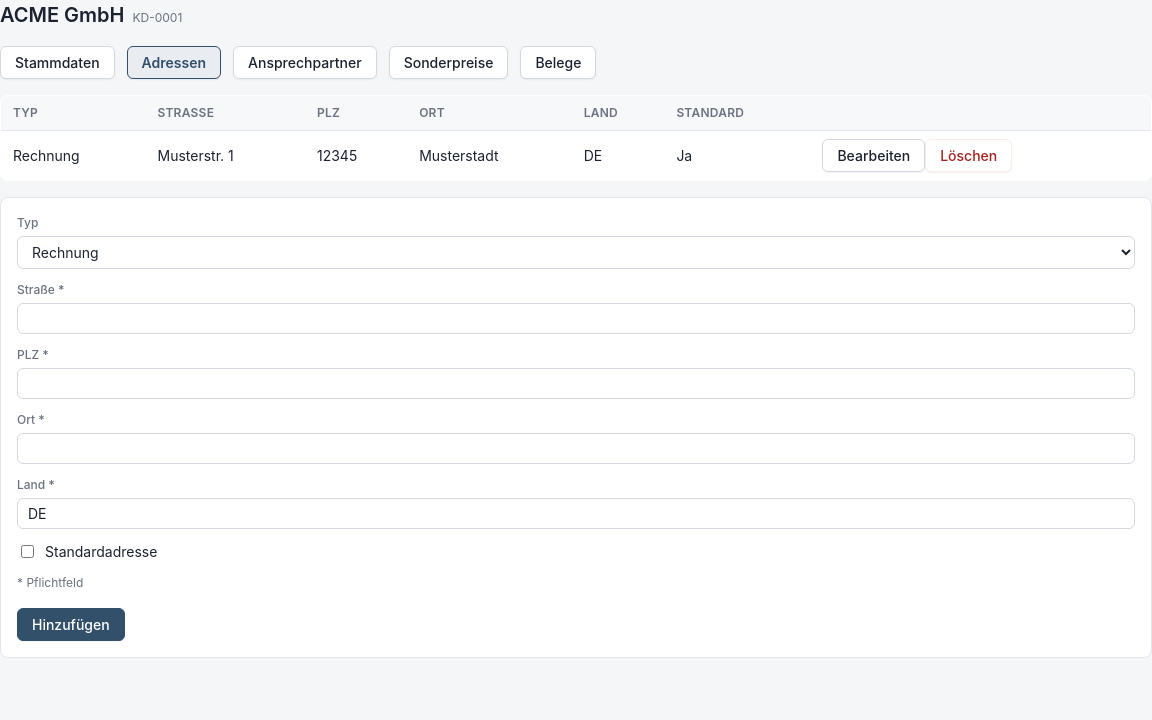
it: KundeDetail › zeigt nach dem Anlegen einer neuen Adresse einen Erfolgs-Hinweis
expect the button "Adressen" is shown: met, box [127, 46, 221, 79]
In the field labelled "Straße": {"x": 576, "y": 318} [17, 303, 1135, 334], type "Neue Str. 5"
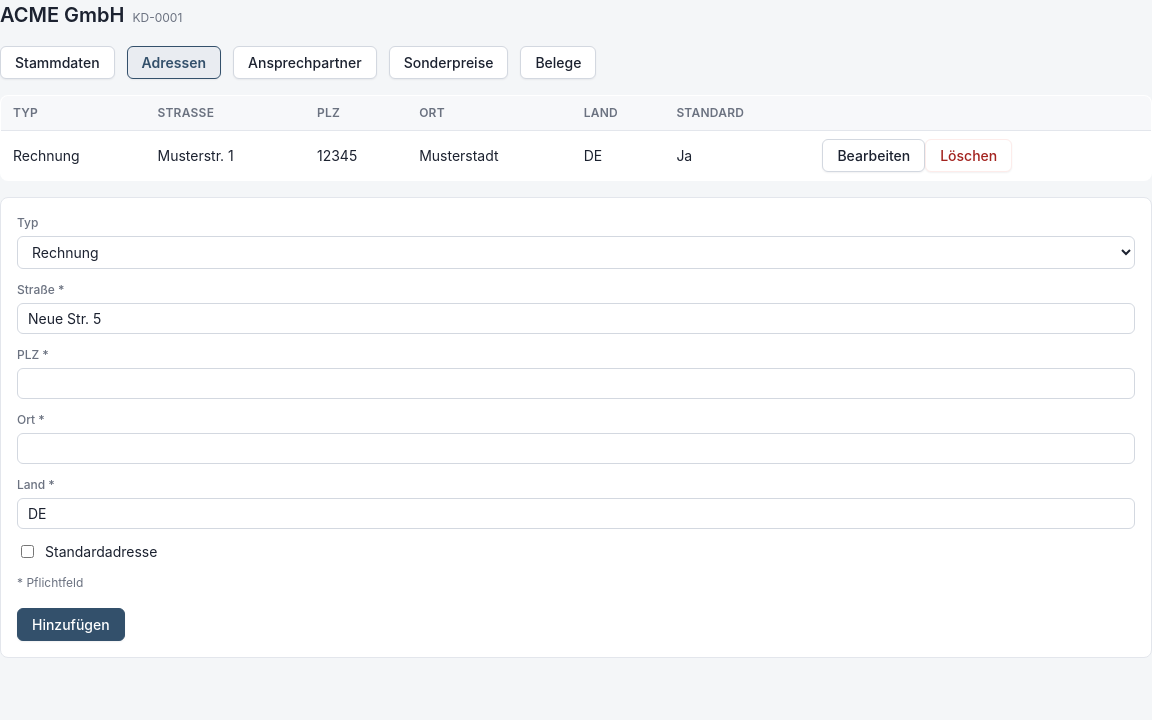
Click the button "Hinzufügen": {"x": 71, "y": 624} [17, 608, 125, 641]
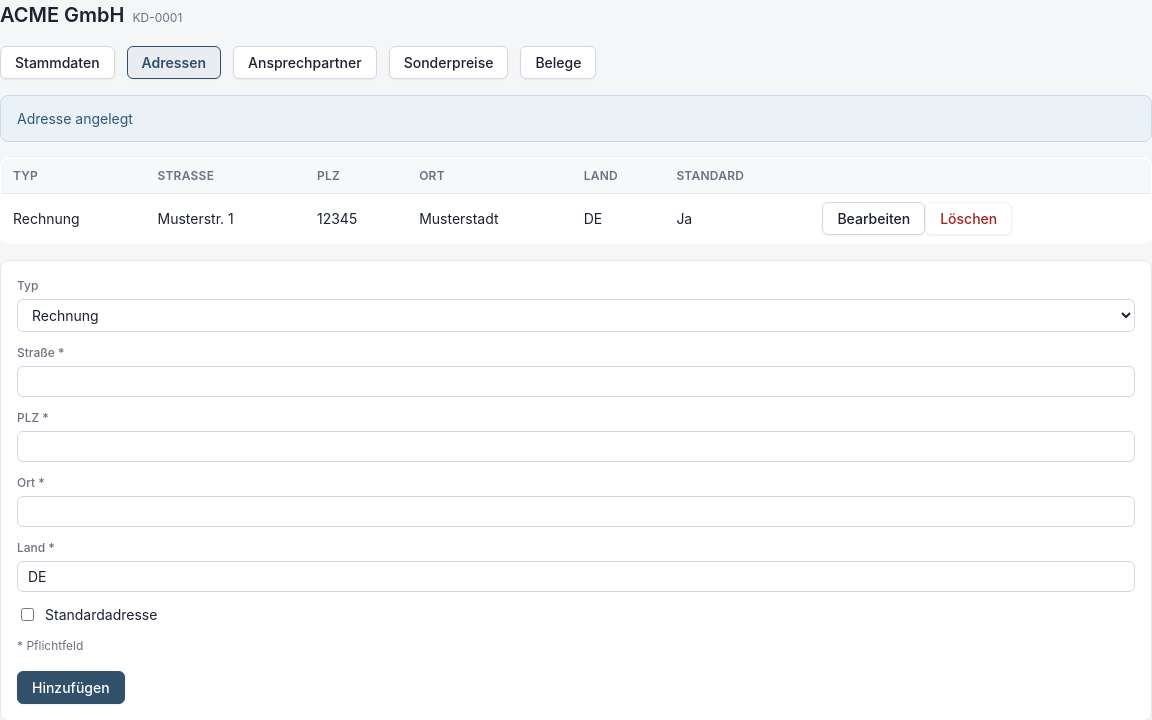
expect the text "Adresse angelegt" is shown: met, box [17, 108, 133, 129]
